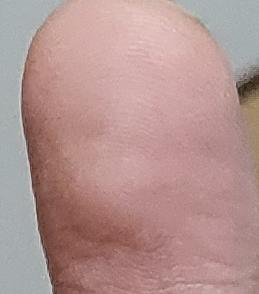Fingerprints: (21, 0, 258, 293)
